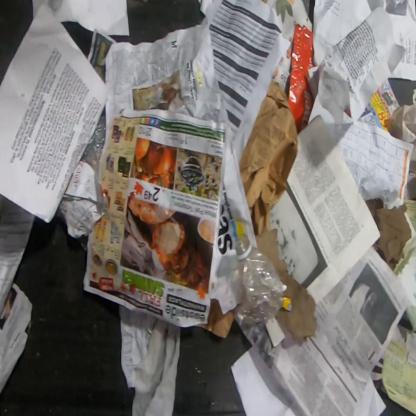cardboard: (364, 198, 412, 272), (287, 22, 316, 135)
rigid_plastic: (234, 232, 284, 327)
soft_plastic: (80, 116, 107, 179)
